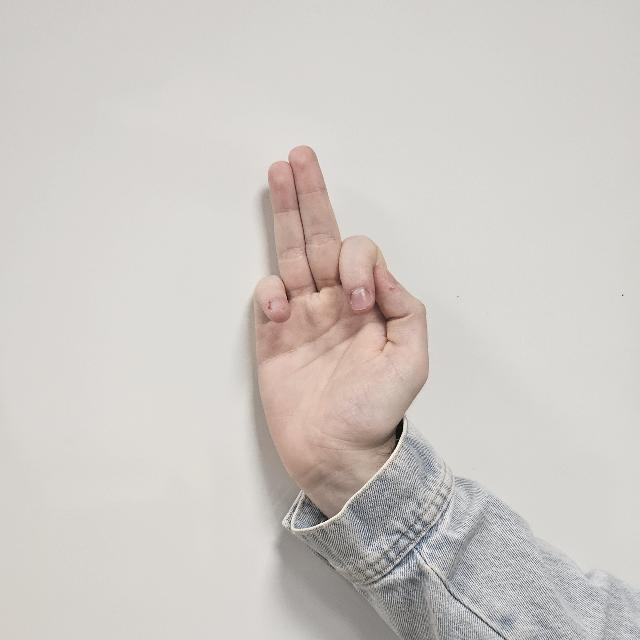R: (250, 144, 430, 480)
